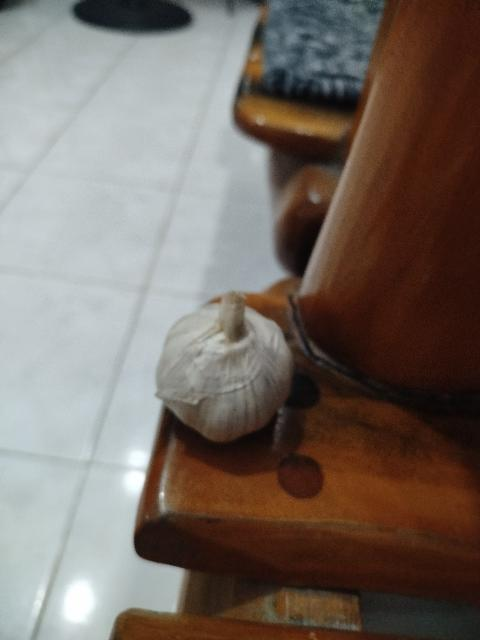garlic: (155, 291, 295, 444)
